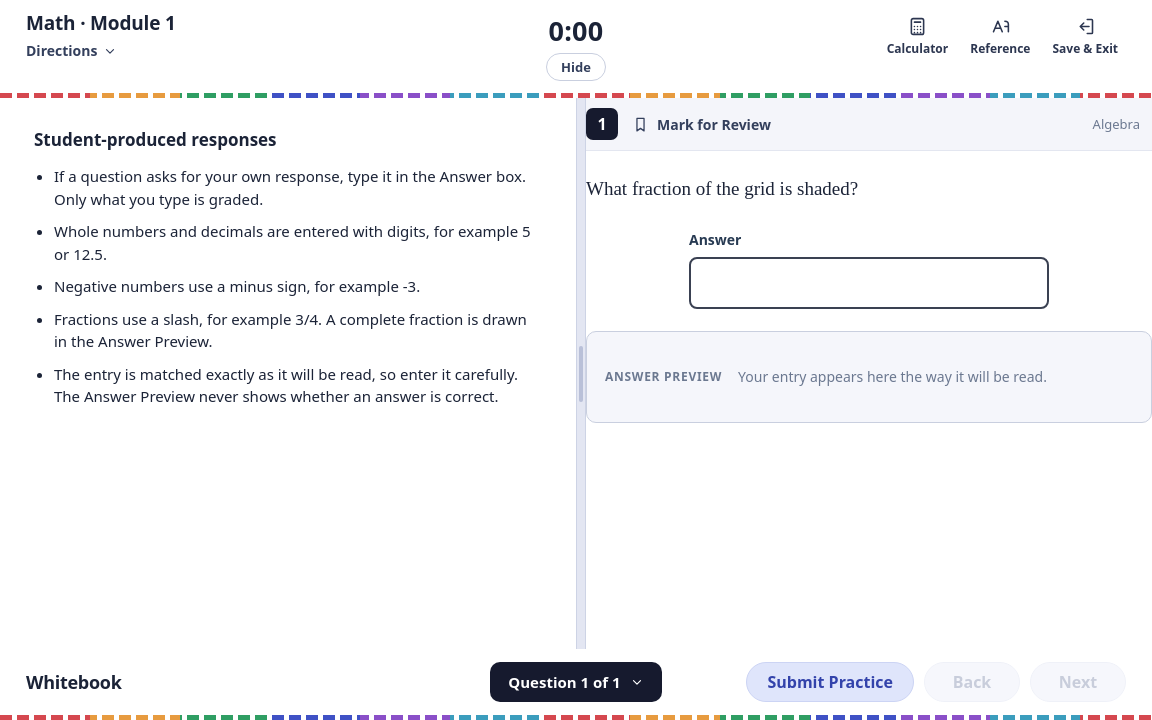
Test: enters student-produced responses with directions and a live preview
The width and height of the screenshot is (1152, 720).
Expected: the heading "Student-produced responses" is shown, left=34, top=128, right=277, bottom=151
Expected: the text "What fraction of the grid is shaded?" is shown, left=586, top=178, right=858, bottom=199
Type "3/4" into the field labelled "Answer" at (869, 282), box left=689, top=256, right=1049, bottom=308
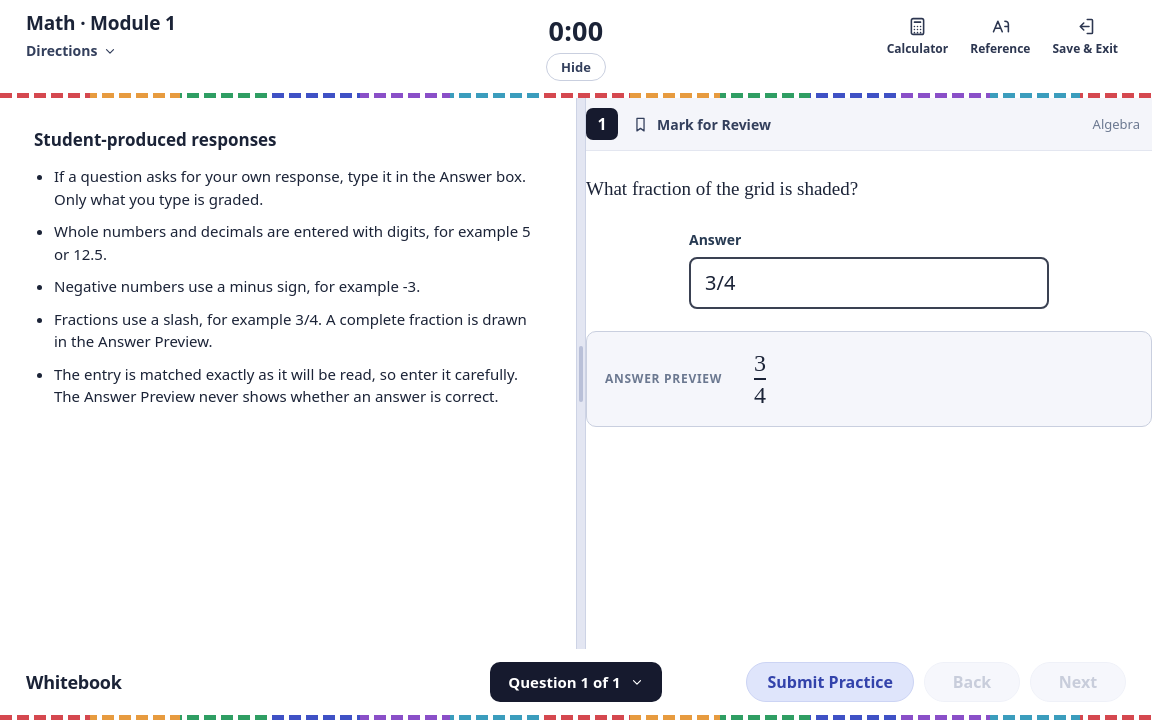
Now the element named "3 over 4" is shown, box left=754, top=348, right=766, bottom=408
Replace the text in the field labelled "Answer" with "12.5" at (869, 282), box left=689, top=256, right=1049, bottom=308
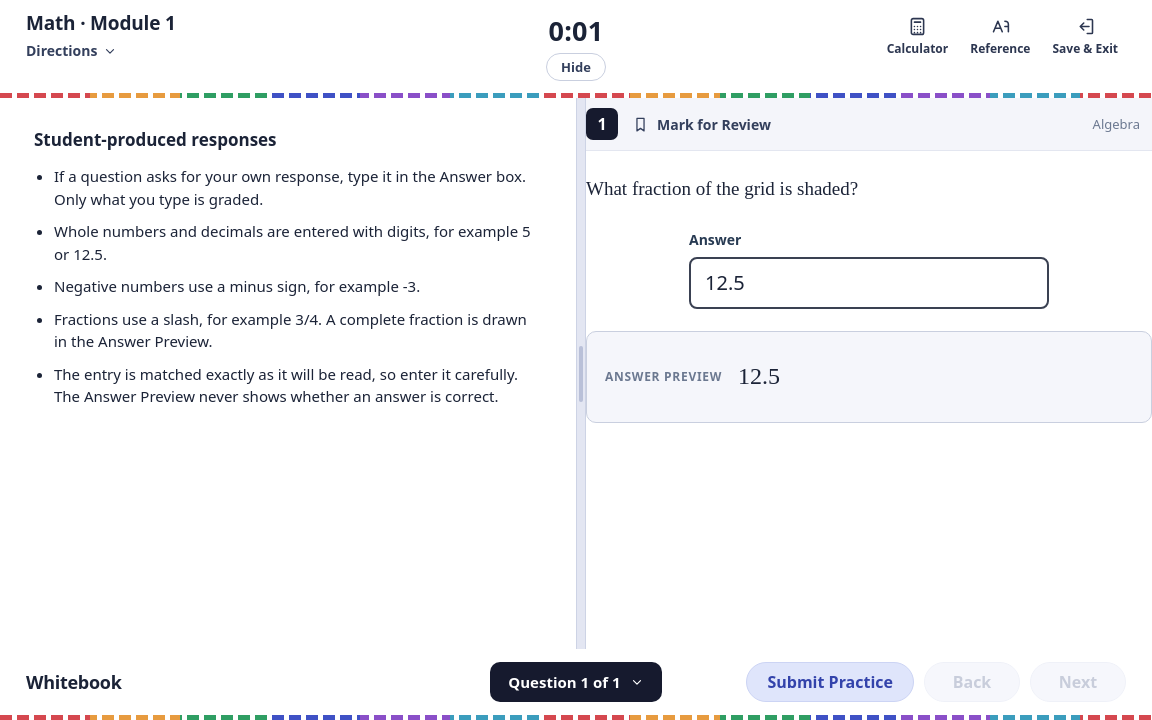
Now the text "12.5" is shown, box left=738, top=361, right=780, bottom=392
